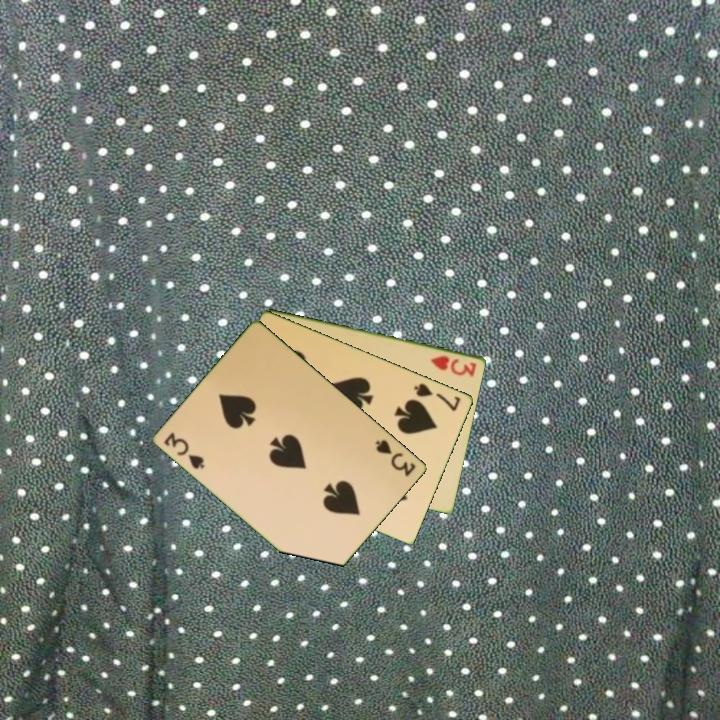3h: (427, 351, 480, 379)
3s: (161, 428, 208, 472), (372, 436, 419, 479)
7s: (411, 379, 464, 414)
